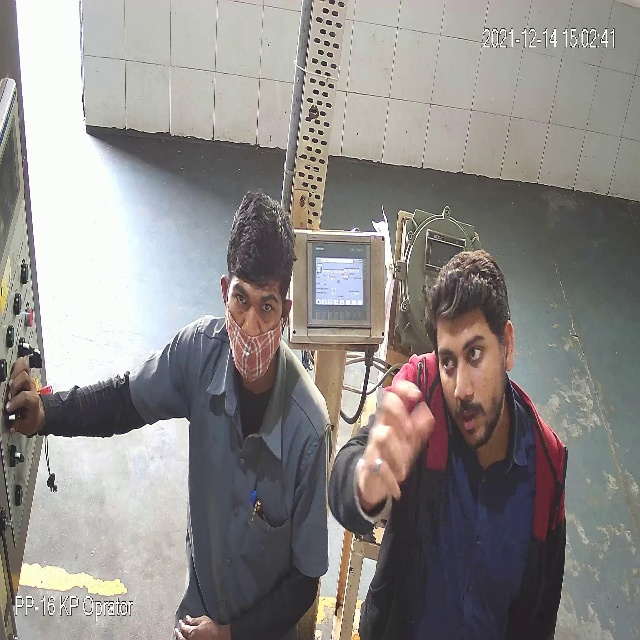Sin_gafas: (440, 336, 497, 379), (228, 286, 282, 324)
Sin_mascara: (445, 381, 504, 446)
